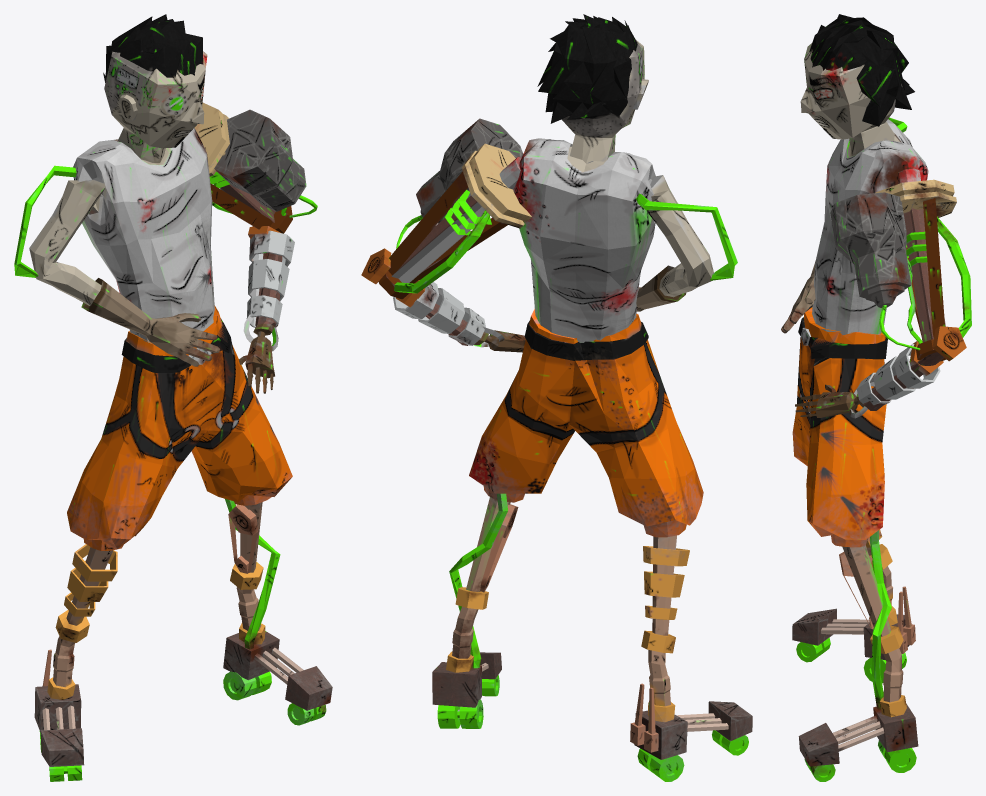
Rendered from CyborgFINALAnimation_000066.obj.
3 renders of one model, left to right at view 1: azimuth 30°, elevation 25°; view 2: azimuth 150°, elevation 25°; view 3: azimuth 270°, elevation 25°, orthographic. The views are drawn at different scales.
Parts seen in each view (by area): view 1: CyborgMesh_Cube.002; view 2: CyborgMesh_Cube.002; view 3: CyborgMesh_Cube.002.
Boxes of the visible parts, left/top/right/bottom form: CyborgMesh_Cube.002: left=14, top=14, right=332, bottom=781; CyborgMesh_Cube.002: left=361, top=14, right=752, bottom=781; CyborgMesh_Cube.002: left=781, top=14, right=971, bottom=781.
Size of the model in its own units: 4.5 by 9.6 by 2.38.
